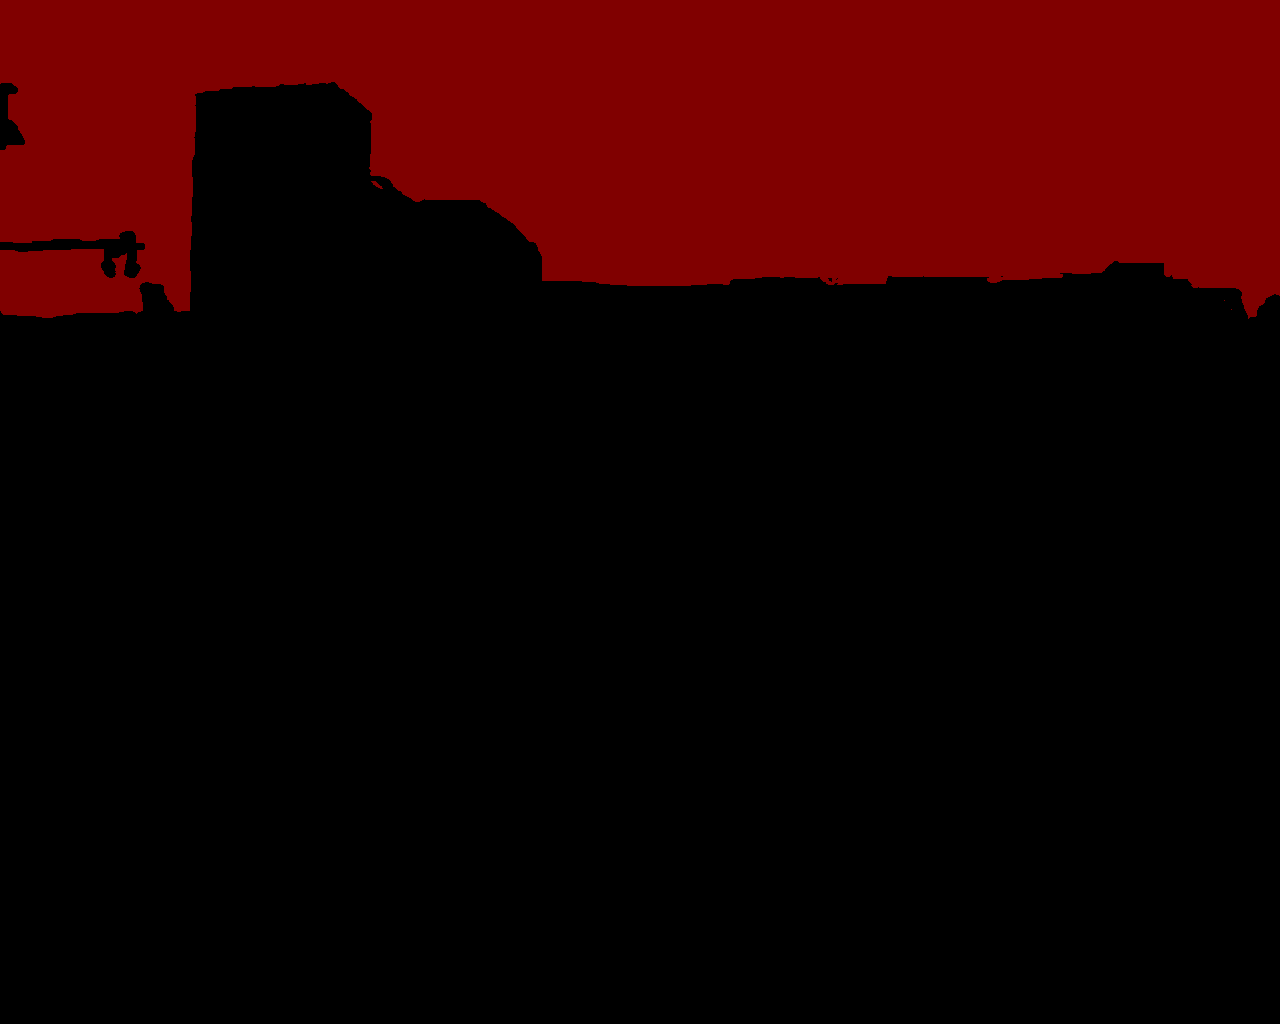Sky: (1, 1, 1279, 319)
